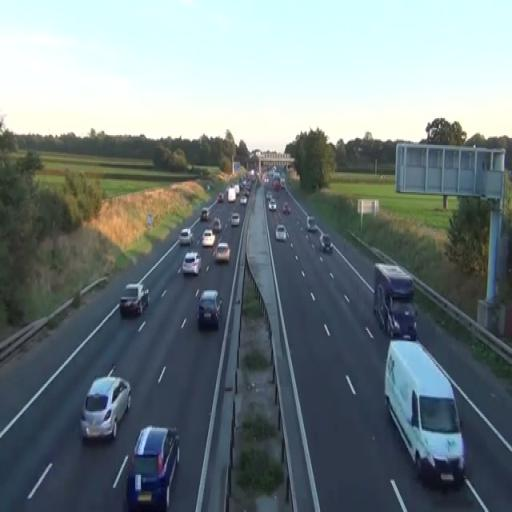Car: (126, 424, 180, 510), (80, 374, 132, 442), (120, 282, 150, 318), (197, 290, 221, 330), (182, 251, 202, 277), (214, 240, 230, 263), (179, 228, 194, 246), (275, 224, 288, 242), (202, 230, 215, 246), (231, 212, 240, 226)
Truck: (384, 338, 466, 490), (372, 262, 418, 340)
